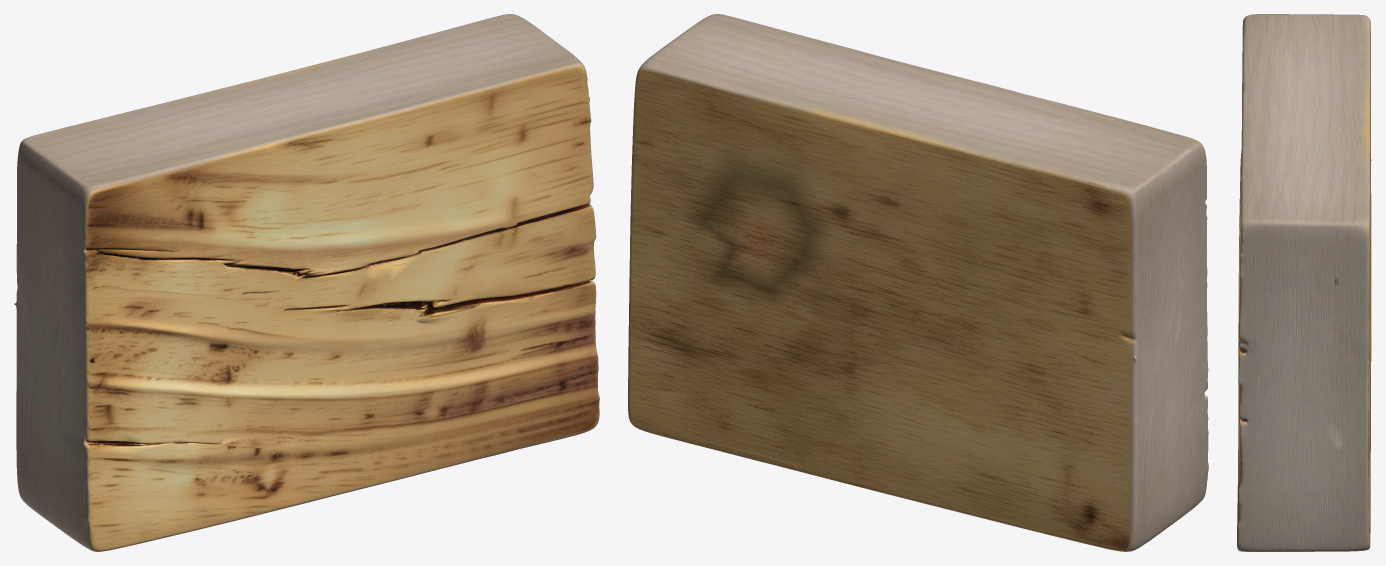
Rendered from tanxiang.glb.
The picture shows the model from 3 angles, left to right: view 1: azimuth 30°, elevation 25°; view 2: azimuth 150°, elevation 25°; view 3: azimuth 270°, elevation 25°; orthographic projection. The views are drawn at different scales.
Parts seen in each view (by area): view 1: node_0; view 2: node_0; view 3: node_0.
Boxes of the visible parts, x1=… form: node_0: x1=14, y1=14, x2=599, y2=551; node_0: x1=628, y1=14, x2=1208, y2=551; node_0: x1=1237, y1=14, x2=1371, y2=551.
Bounding box in the file's own units: 0.9879 × 0.6899 × 0.2534.
Materials: 1 (1 with a texture image).
